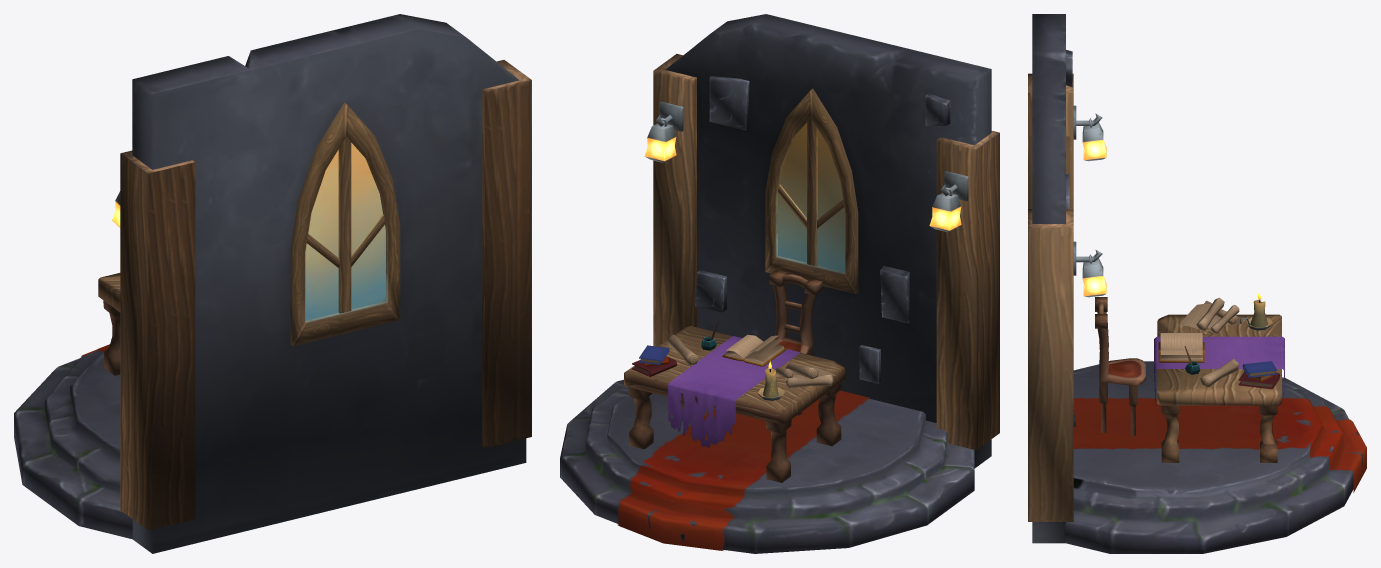
Rendered from study_room.glb.
3 renders of one model, left to right at view 1: azimuth 30°, elevation 25°; view 2: azimuth 150°, elevation 25°; view 3: azimuth 270°, elevation 25°, orthographic. The views are drawn at different scales.
Visible parts, largest first — view 1: Object_3; view 2: Object_3; view 3: Object_3.
Boxes of the visible parts, <box> form: Object_3: <box>14,14,531,553</box>; Object_3: <box>560,14,999,553</box>; Object_3: <box>1028,14,1366,553</box>.
Bounding box in the file's own units: 7.94 × 8.17 × 6.61.
Materials: 1 (1 with a texture image).
